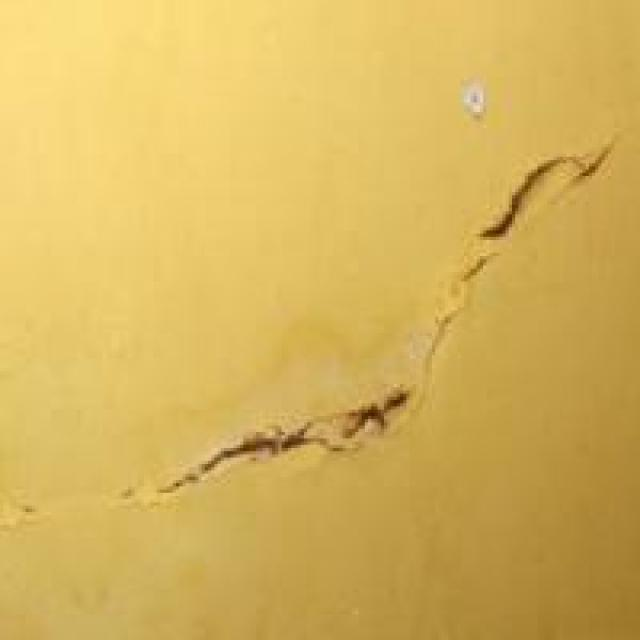Crack: (126, 104, 629, 549)
